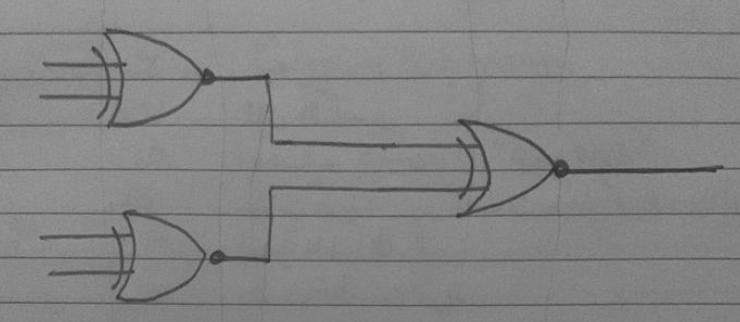XNOR: (76, 23, 229, 144), (99, 184, 236, 308), (444, 103, 577, 225)
